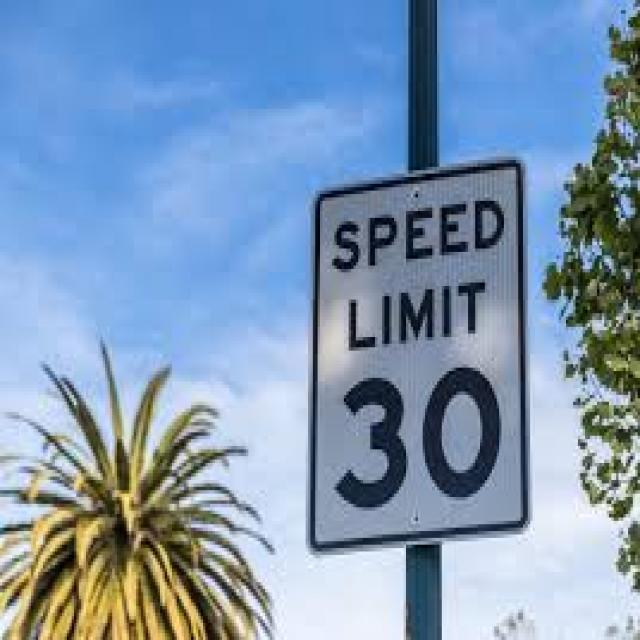speedLimit35: (313, 163, 528, 538)
